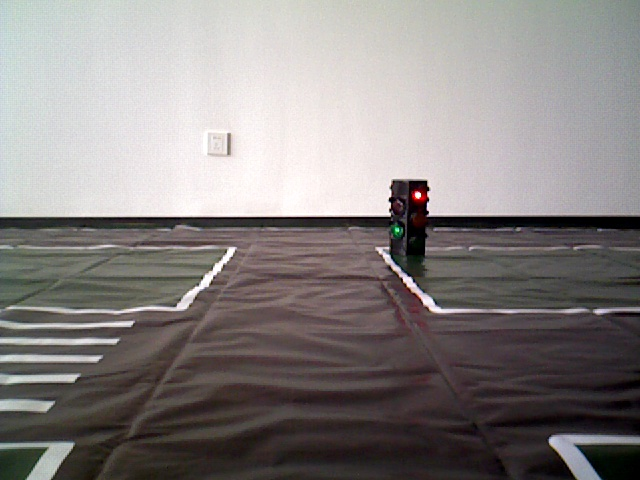red: (390, 182, 427, 267)
